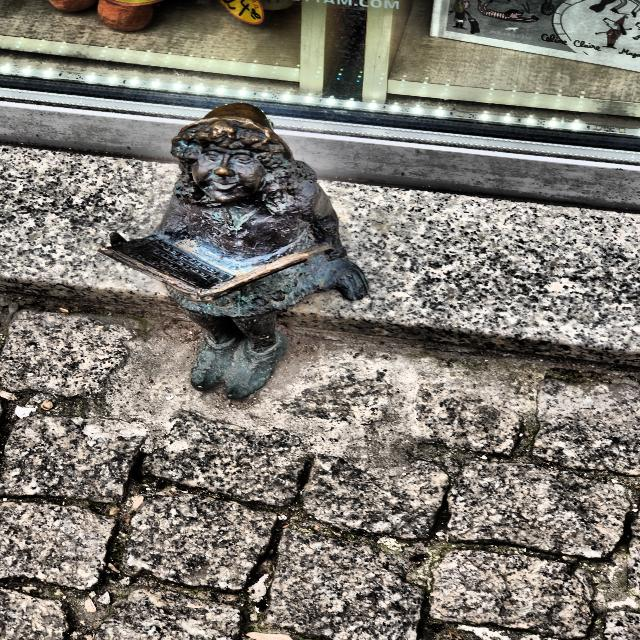Ksiegarka: (100, 104, 368, 399)
